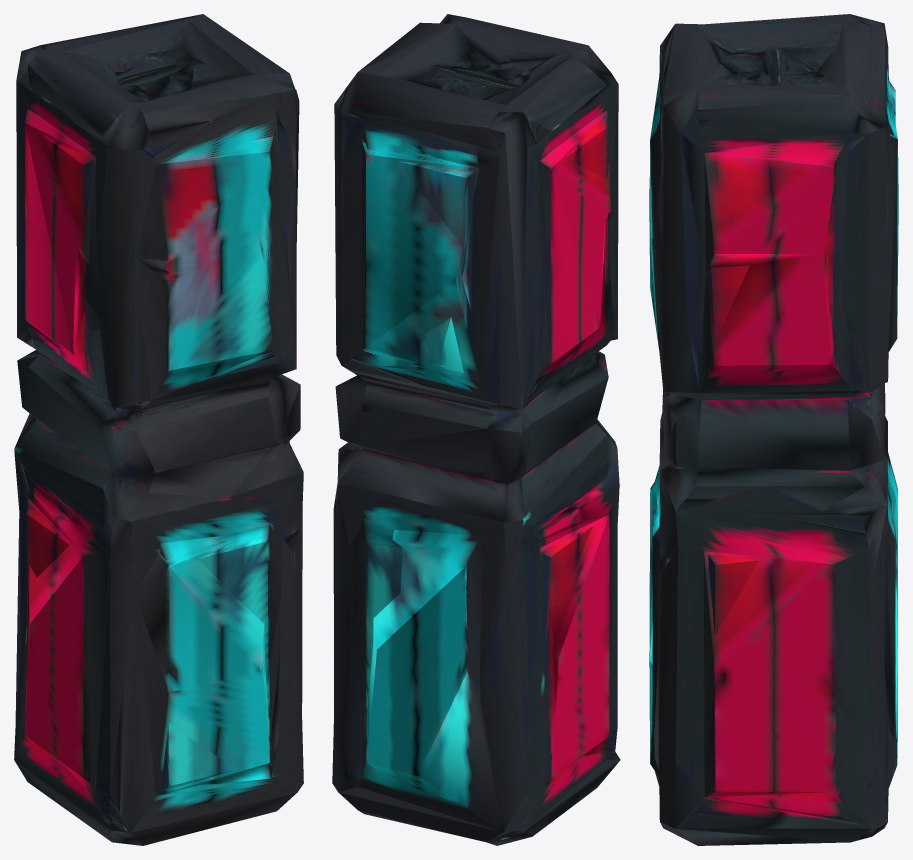
The model's file is cover_full_city_v1_lod1.glb.
3 renders of one model, left to right at view 1: azimuth 30°, elevation 25°; view 2: azimuth 150°, elevation 25°; view 3: azimuth 270°, elevation 25°, orthographic. The views are drawn at different scales.
Size of the model in its own units: 0.5577 by 1.85 by 0.5581.
1 material, 1 textured.
